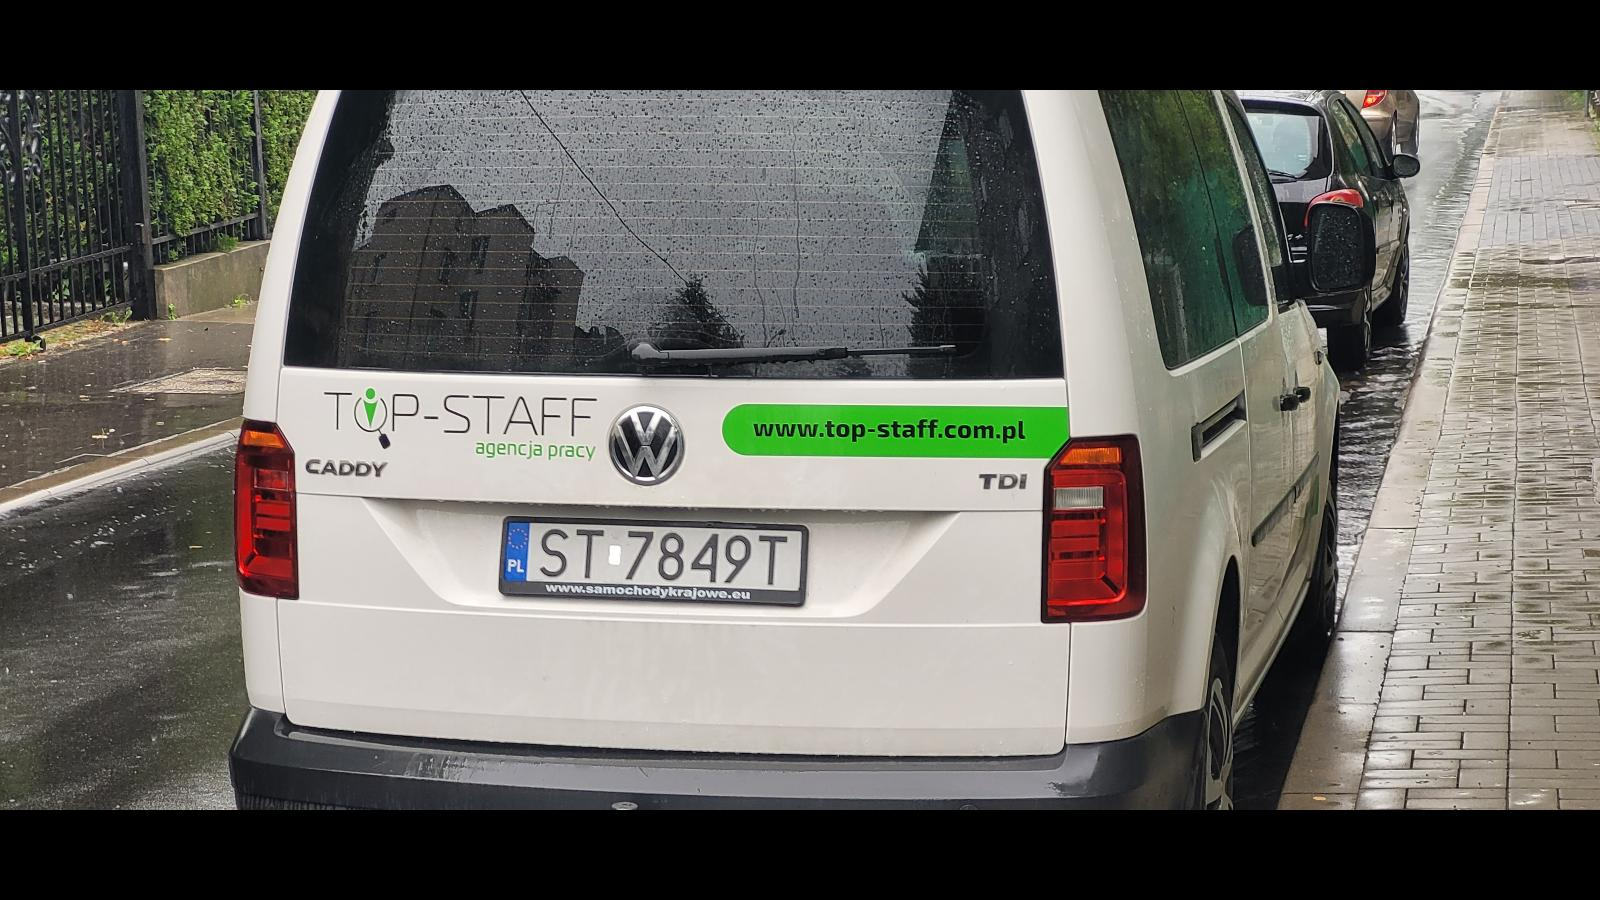plates: (499, 516, 809, 608)
